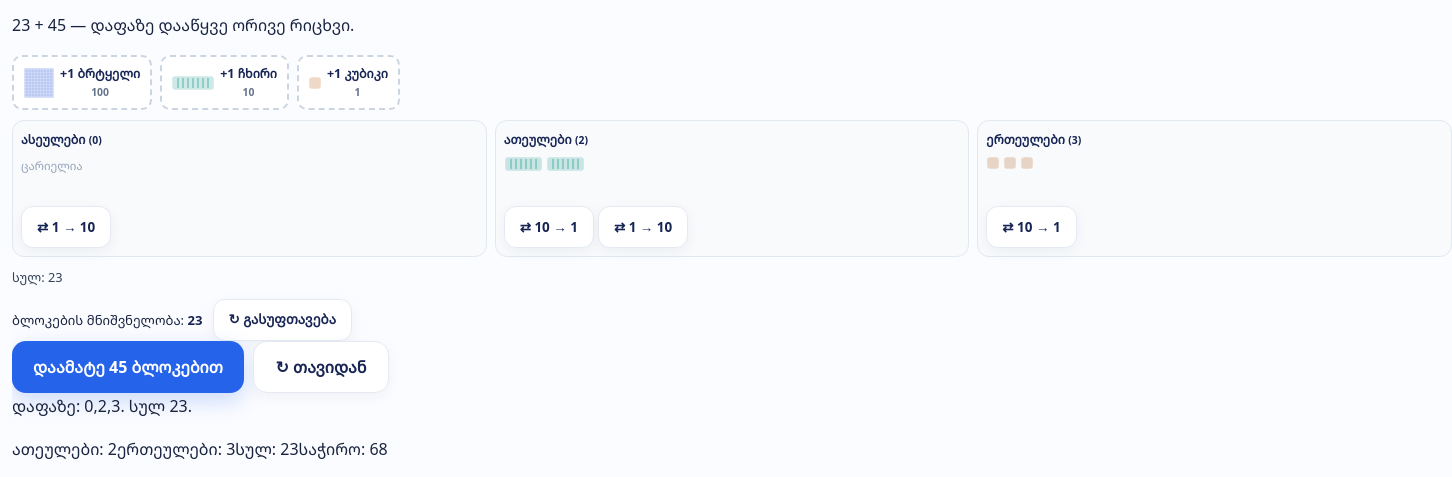
Test: tools: the adding mat › puts the second number down as it is and reports the value
Click the button "დაამატე 45 ბლოკებით": (128, 367) [12,341,244,393]
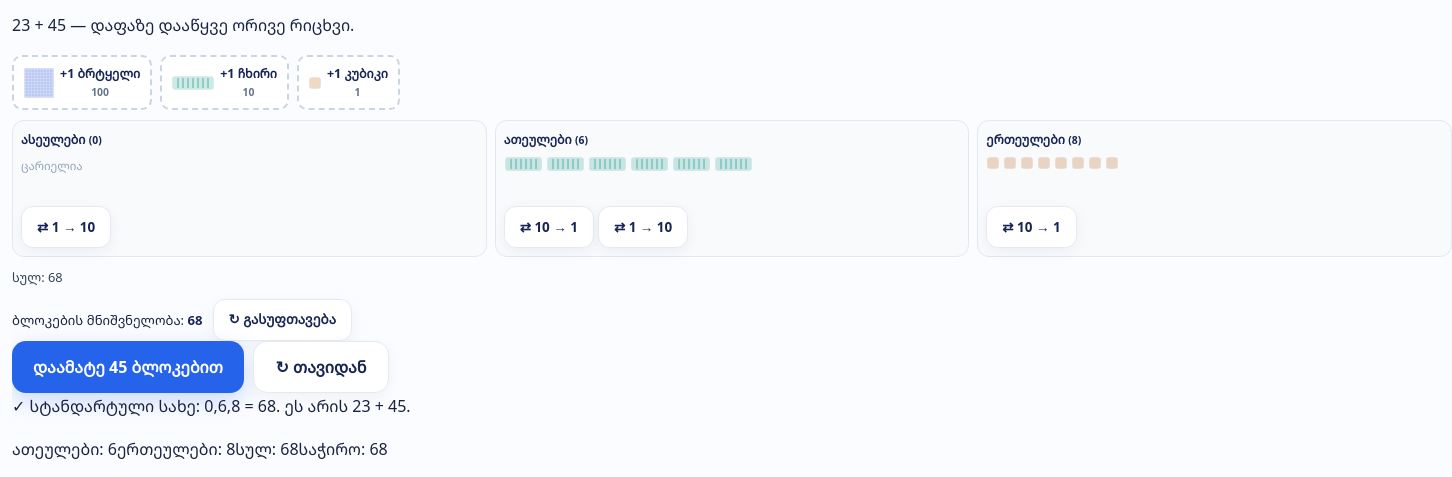
Expected: the element with class "lab-facts" shows "68", [280,438,299,460]
Expected: the message with class "lab-status" shows "68", [12,395,411,417]
